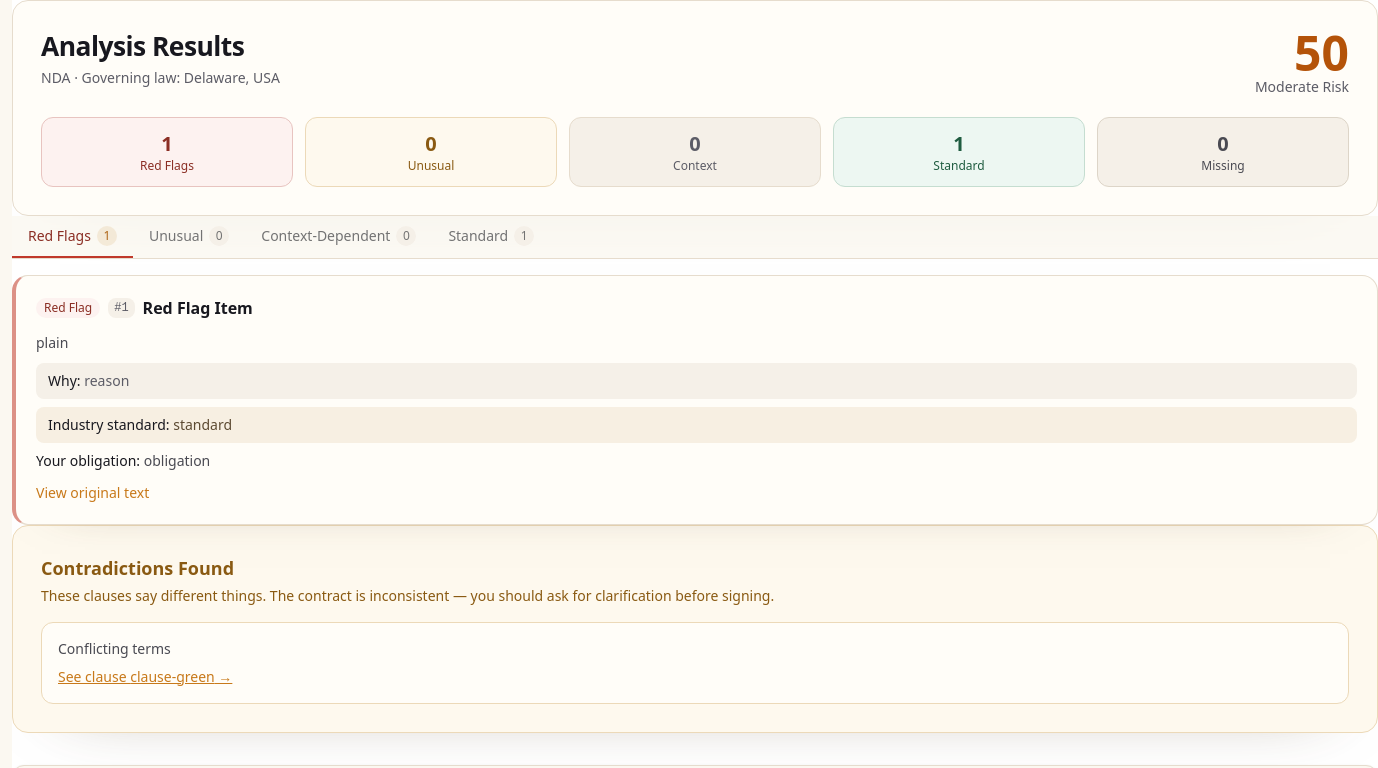
Test: clause navigation integration › navigates from contradictions panel to a clause on another tab
Click the button "See clause clause-green →".
click(145, 677)  # box [58,667,232,687]
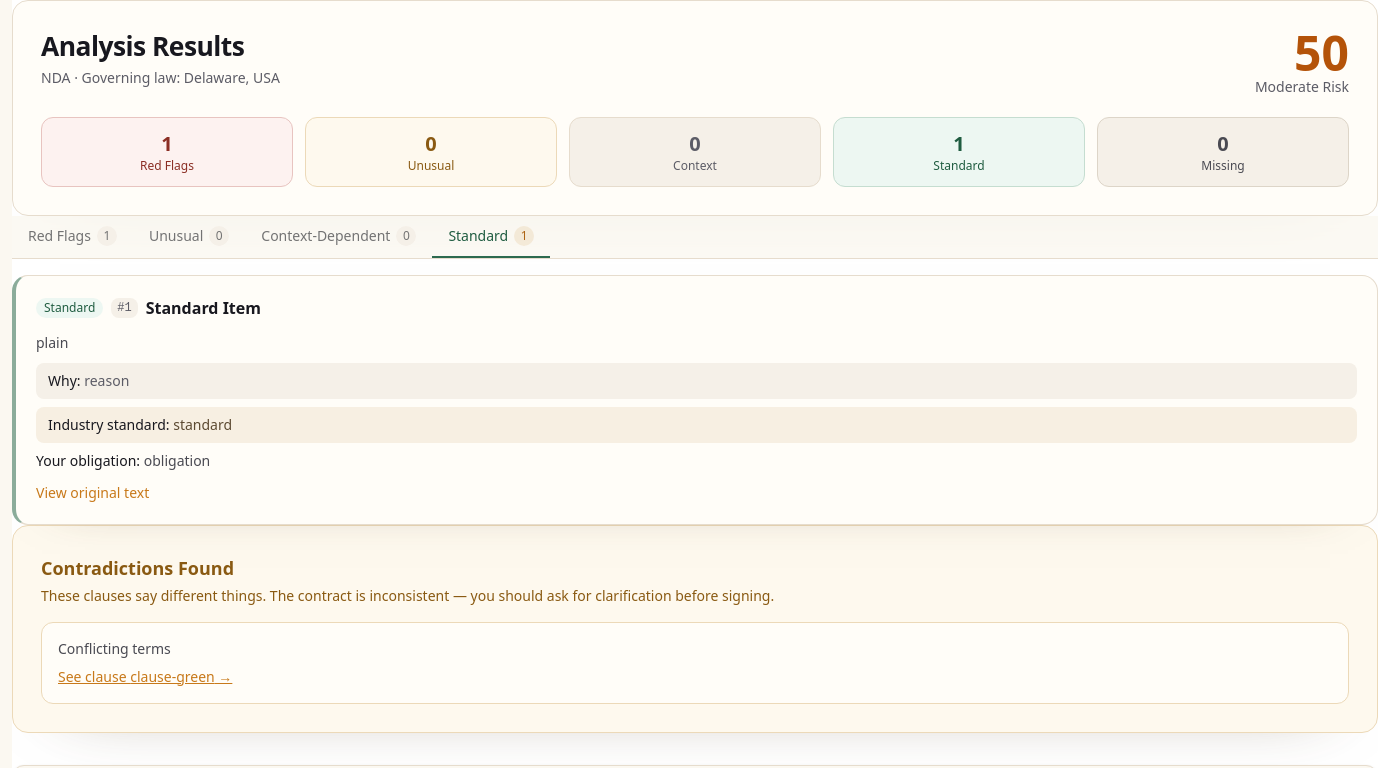
Now the heading "Standard Item" is shown, box [146,296,261,320]
